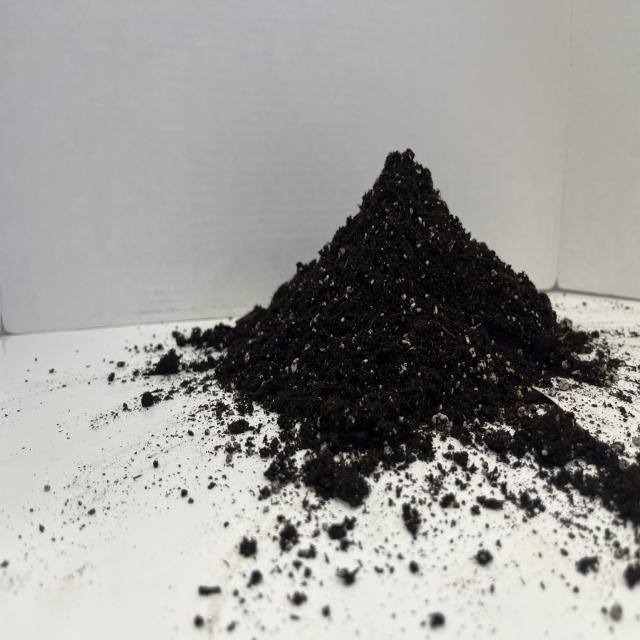soil: (187, 145, 608, 506)
